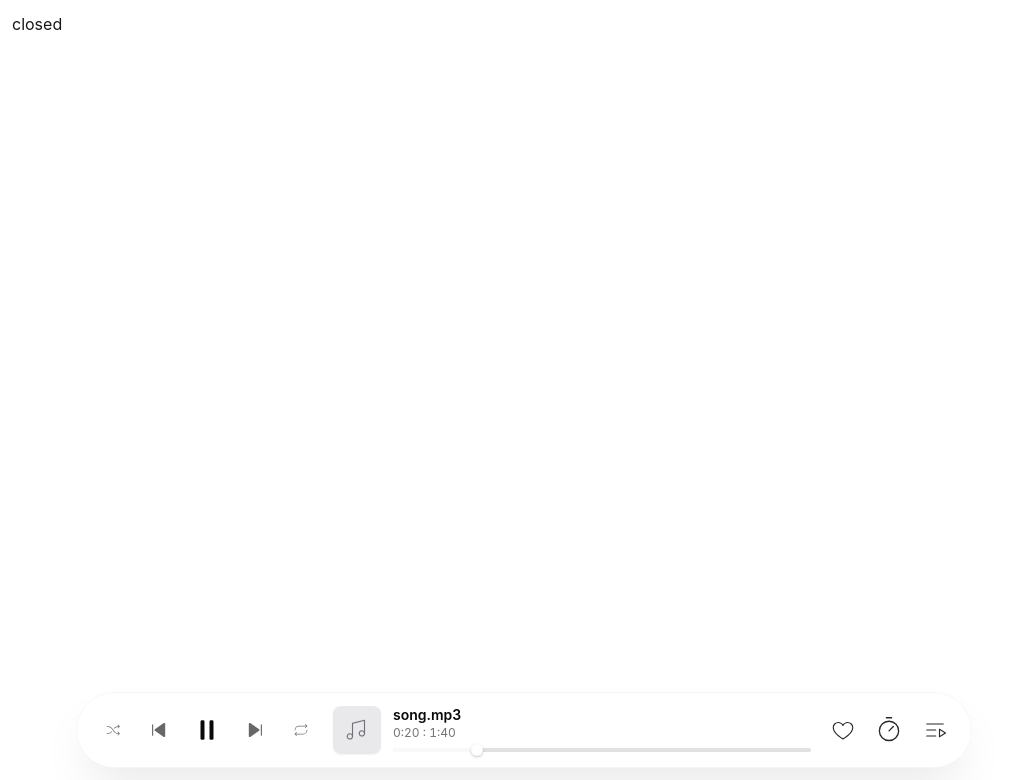
Scenario: MiniPlayer › keeps tracking mini scrubber drags outside the progress bar
Press the mouse on the slider with test id "mini-scrubber" at (602, 750), box [393,748,811,752]
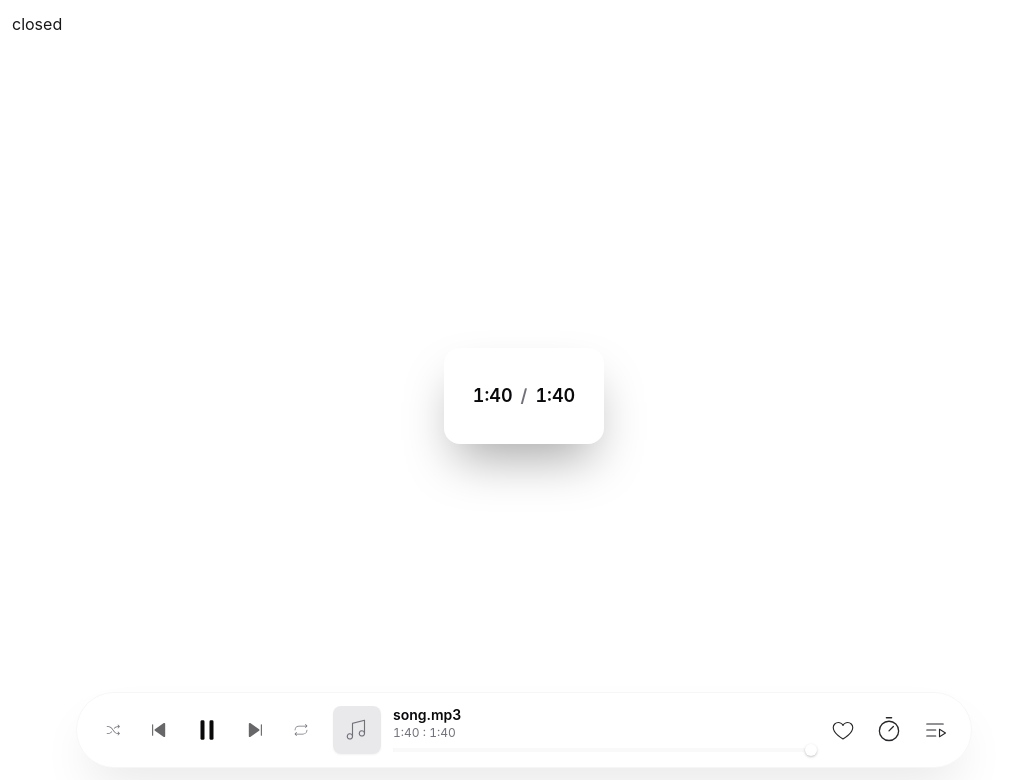
Check: the element with test id "mini-scrub-preview" reads "1:40 / 1:40", box [444,348,604,444]
